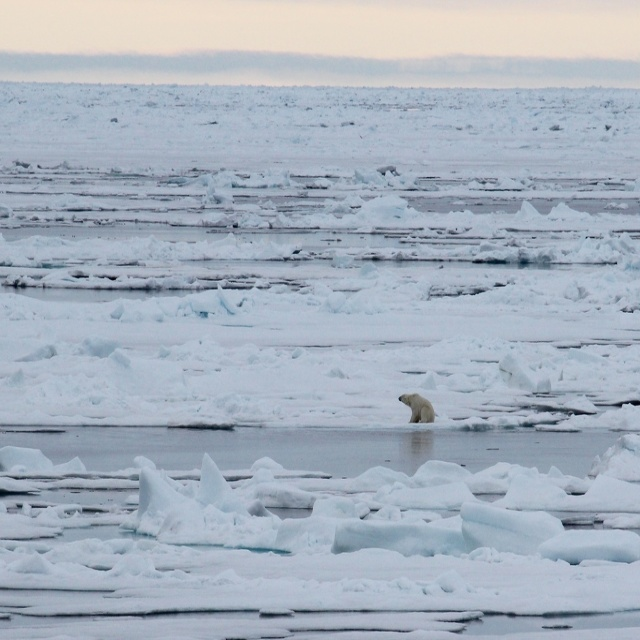Polar bear: (399, 391, 435, 422)
